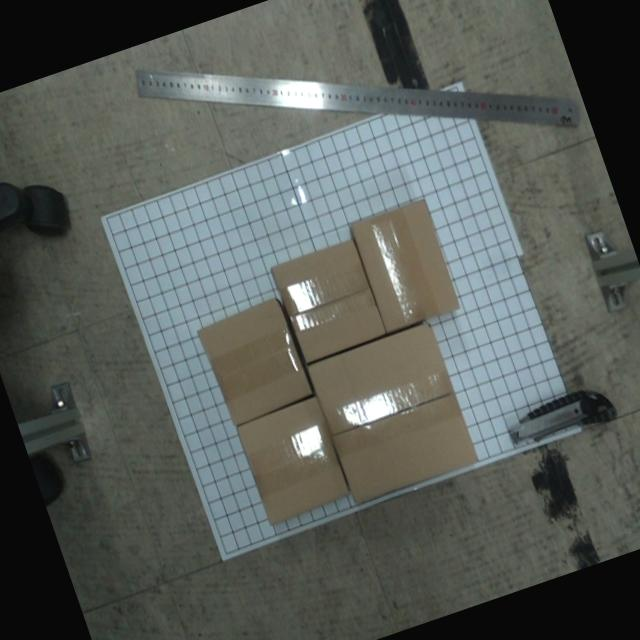box: (304, 319, 481, 506), (192, 295, 316, 429), (346, 198, 462, 333), (234, 396, 353, 526), (268, 238, 388, 366)
